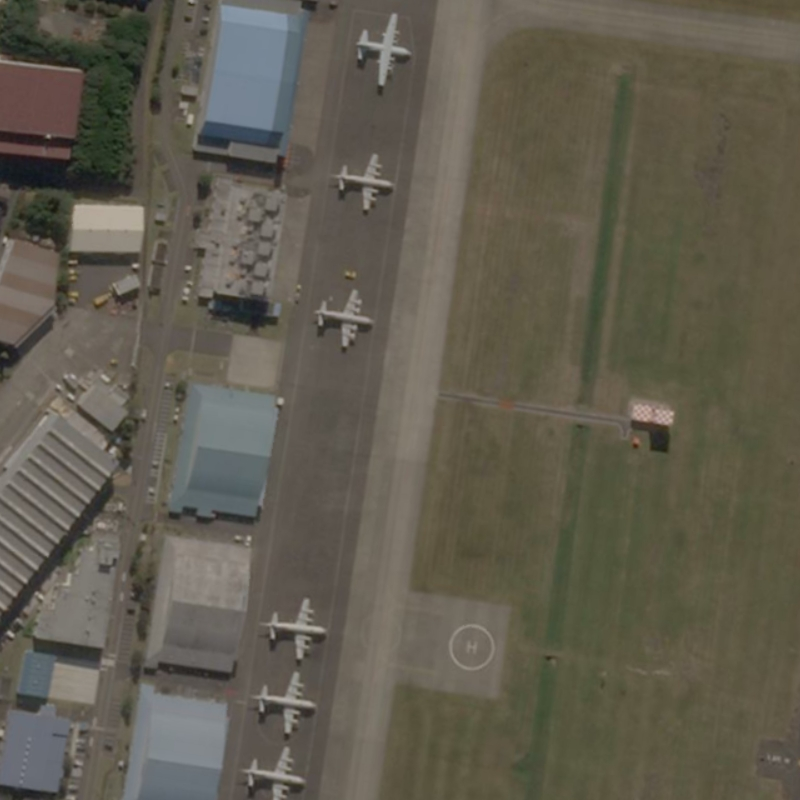A2: (348, 5, 418, 94)
A9: (259, 591, 334, 666), (247, 666, 320, 739), (331, 148, 399, 217), (311, 286, 378, 355), (237, 744, 312, 800)
